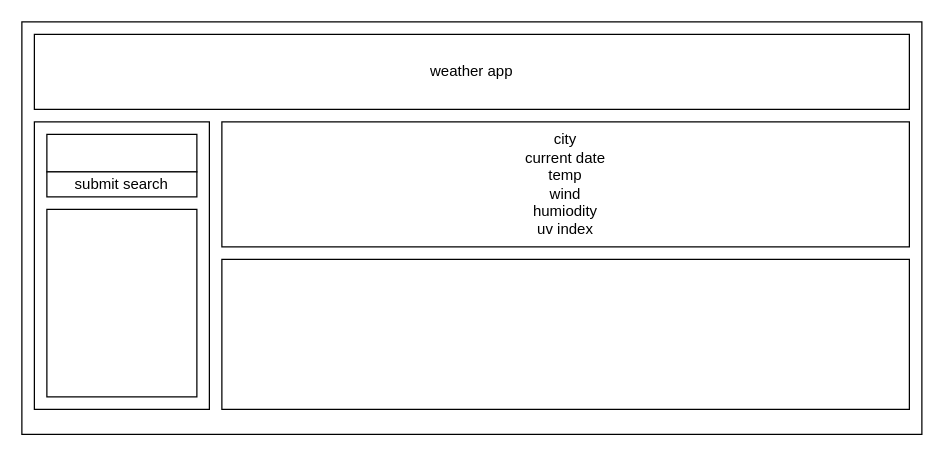
The diagram is 944 pixels wide and 456 high, and some of its shapes have lost their labels. The box of each missing label's shape, as (x1, y1, x2, y2) in pixels:
input search: (46, 133, 197, 172)
saved past searchs: (46, 208, 197, 397)
